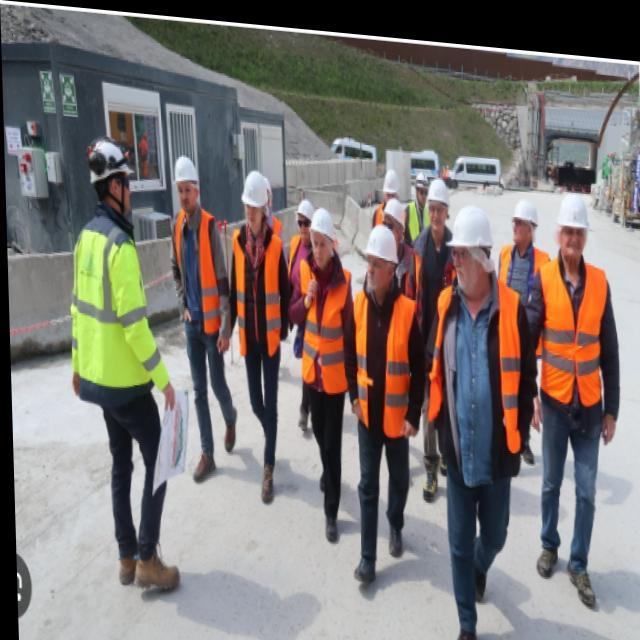boots: (445, 532, 495, 640), (534, 532, 599, 611), (348, 507, 409, 591), (113, 538, 183, 599), (191, 400, 239, 484), (417, 442, 460, 506), (317, 466, 346, 547), (257, 425, 284, 508)
helmet: (440, 200, 500, 299), (85, 135, 138, 219), (552, 189, 595, 269), (360, 221, 403, 298), (240, 165, 274, 239), (506, 191, 542, 253), (308, 205, 341, 272), (172, 150, 204, 217), (425, 173, 453, 242), (382, 194, 410, 251), (294, 194, 318, 249), (412, 163, 432, 212), (258, 171, 276, 221), (381, 165, 402, 206)
vest: (65, 196, 173, 416), (424, 273, 526, 456), (533, 252, 614, 415), (350, 280, 423, 445), (297, 249, 357, 401), (231, 218, 287, 363), (172, 202, 226, 340), (498, 238, 555, 363), (287, 227, 331, 329), (369, 203, 405, 262), (406, 199, 435, 260)
